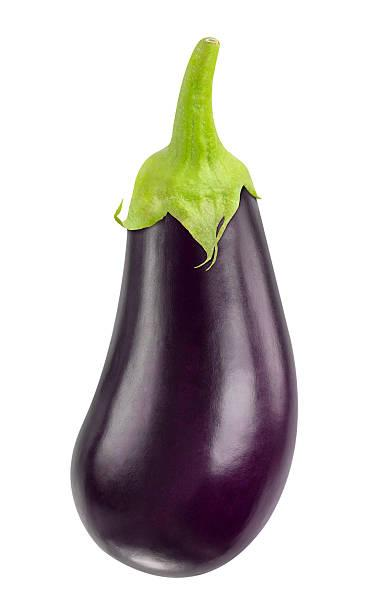Brinjal: (66, 30, 309, 581)
